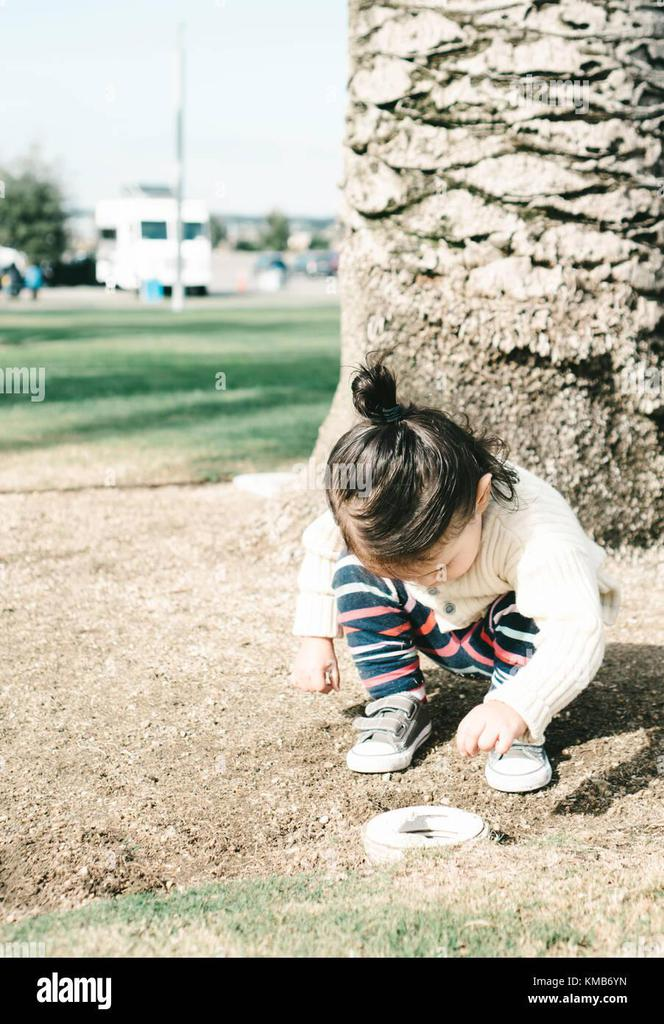child: (253, 343, 630, 800)
